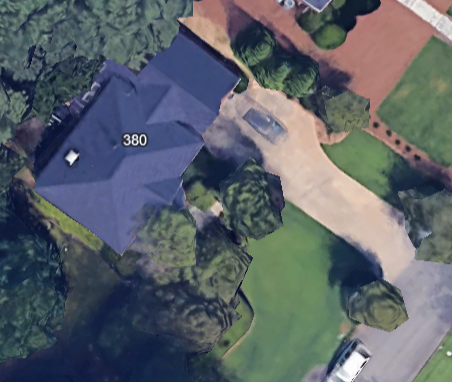driveway: (214, 67, 426, 296)
